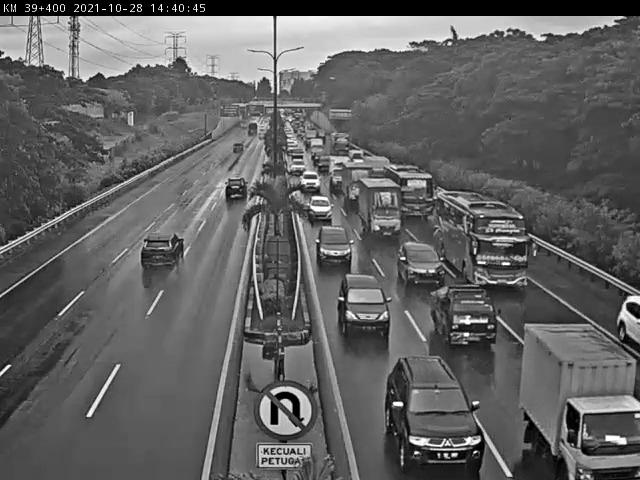big bus: (430, 187, 529, 290), (382, 163, 431, 217)
car: (385, 357, 486, 472), (429, 281, 499, 346), (337, 272, 392, 336), (397, 240, 447, 287), (314, 224, 354, 266), (306, 194, 334, 225), (223, 175, 250, 201)
mid truck: (356, 178, 399, 236), (140, 231, 185, 270)
